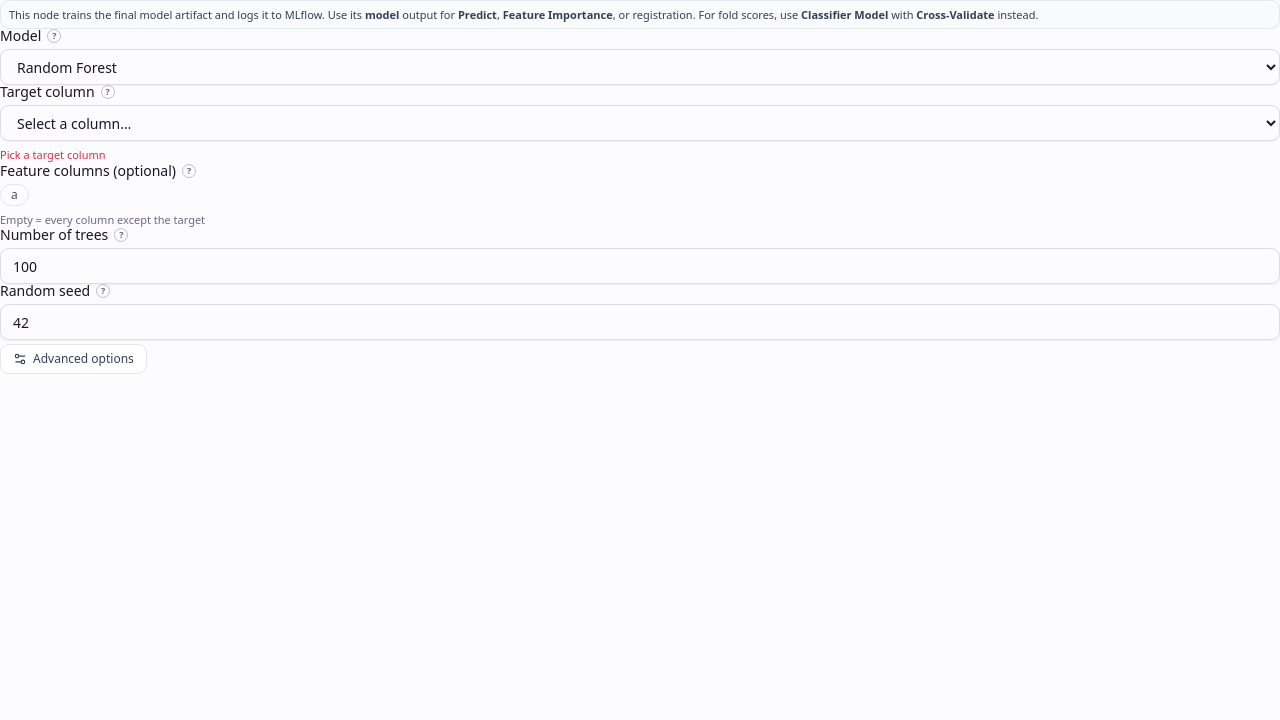
it: mlTrain config form › opens the Advanced options modal with preprocessing
The image size is (1280, 720).
Step 1. Click the button "Advanced options" → (73, 359), box [0,344,147,374]
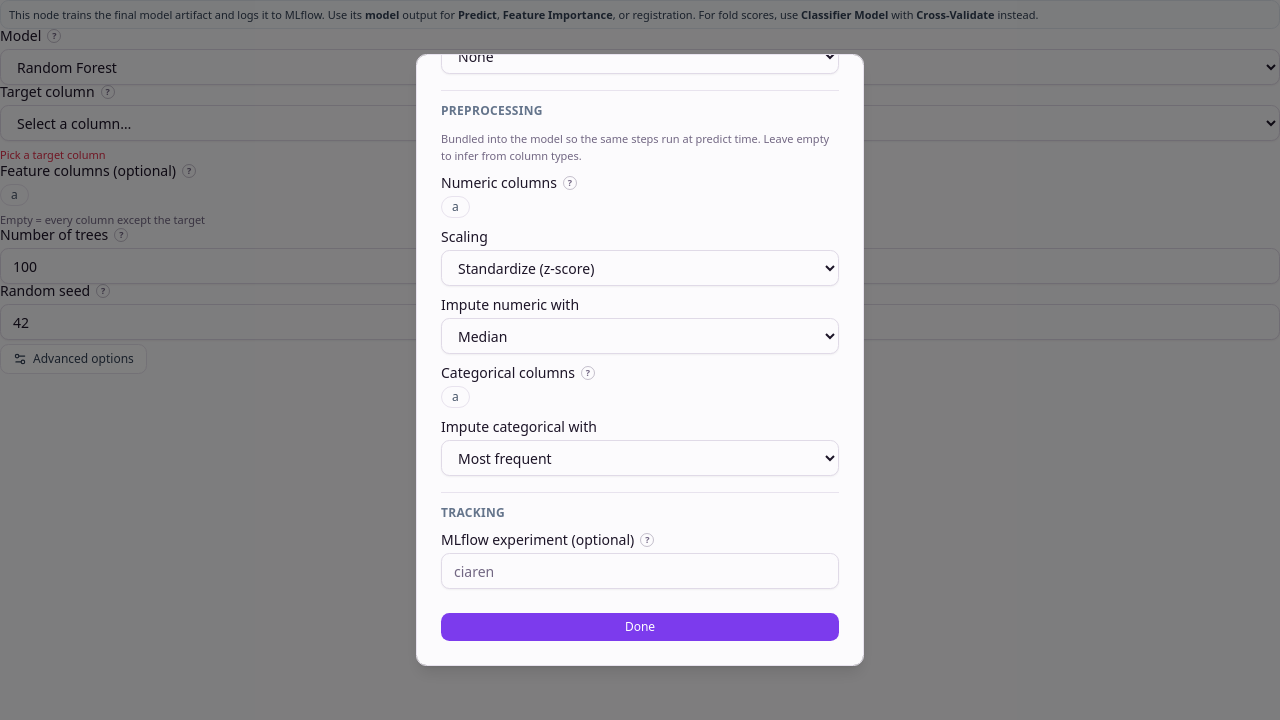
Result: the heading "Preprocessing" is shown at [441,102,543,119]
Result: the heading "Tracking" is shown at [441,504,505,521]
